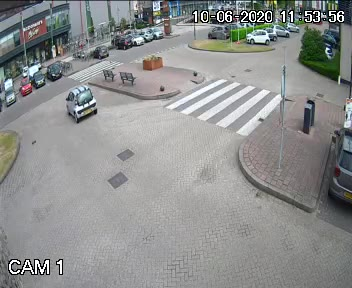car: (57, 82, 100, 123)
